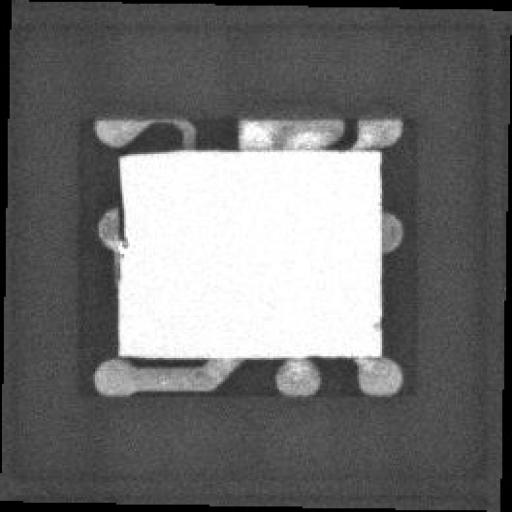DIE_BROKEN: (113, 187, 126, 247)
